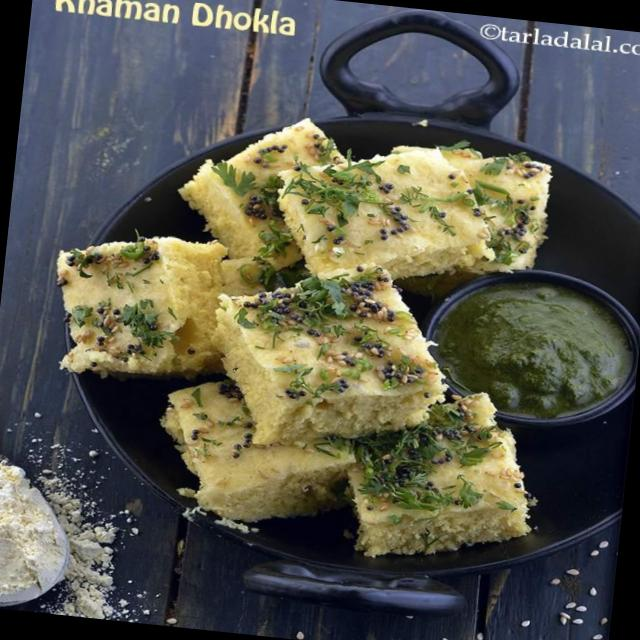dhokla: (143, 128, 540, 556)
